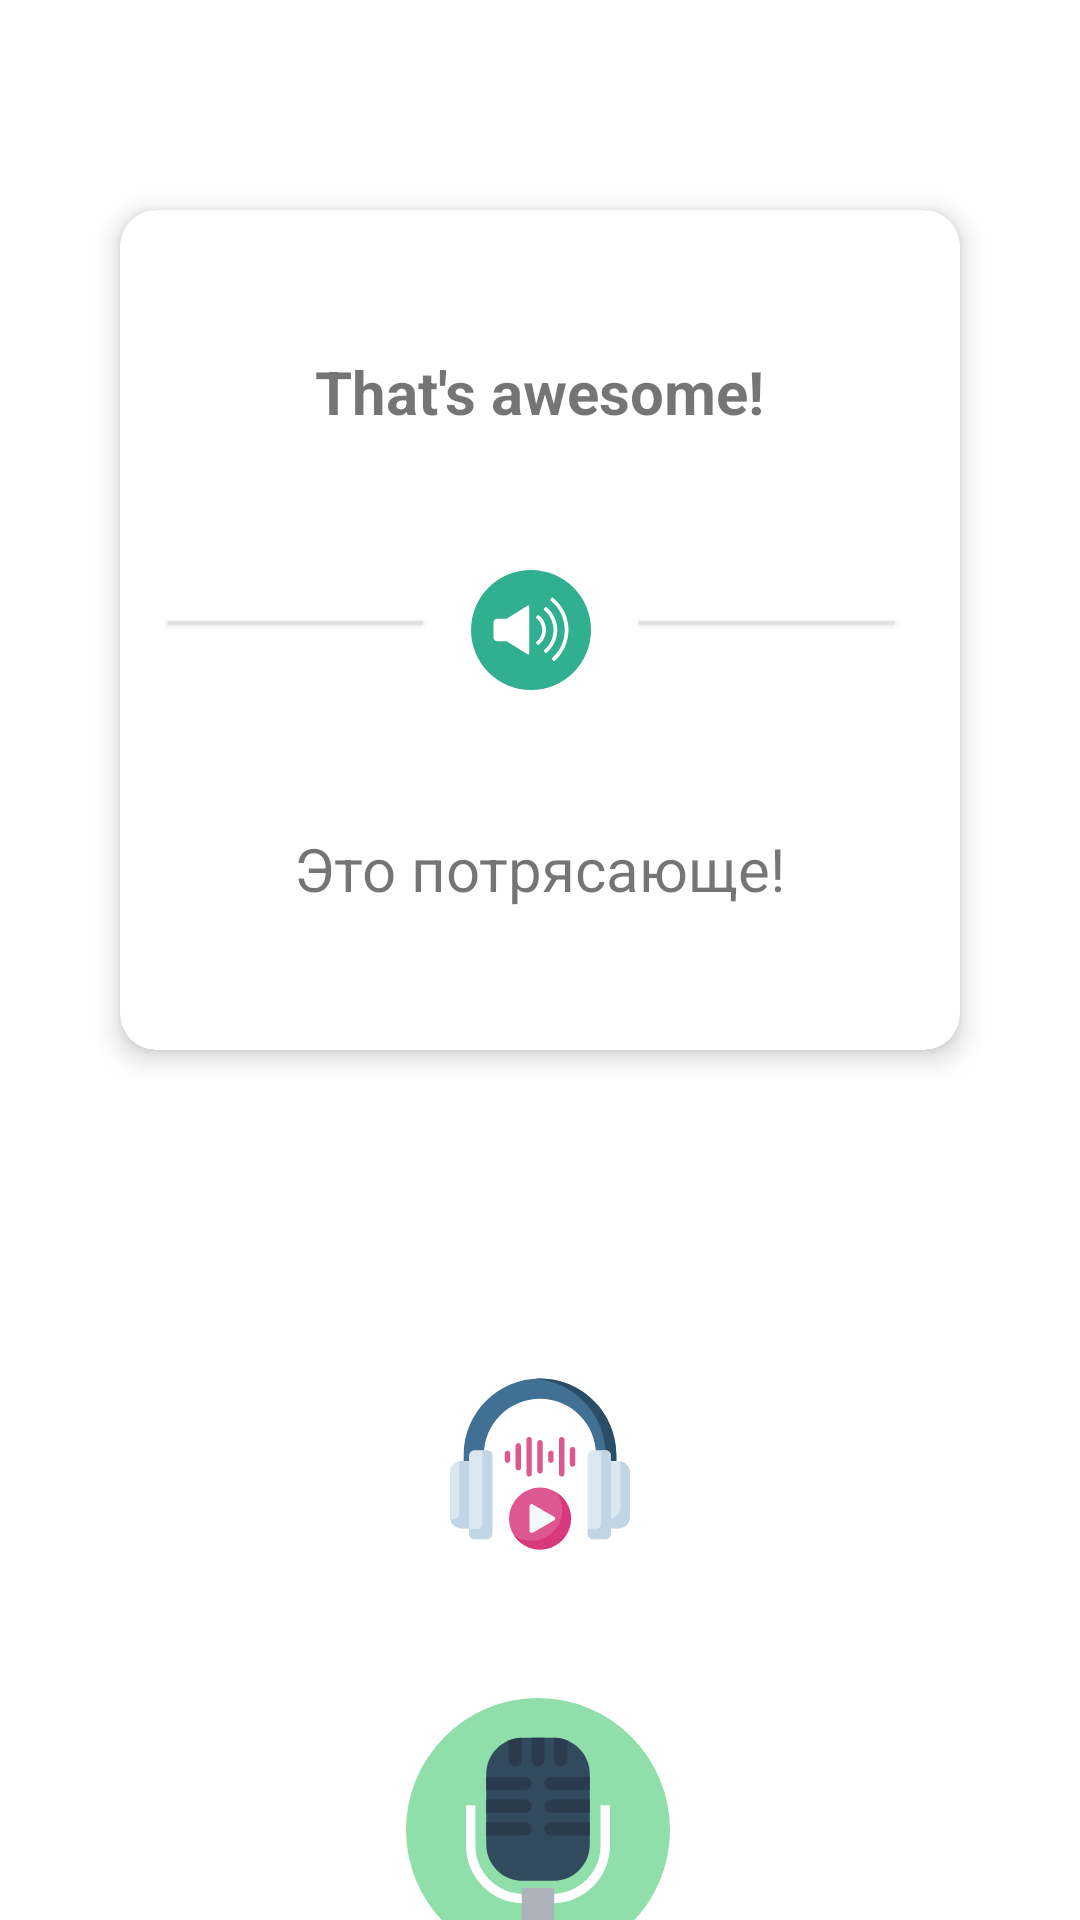

Named icons in this screenshot (1080*1920) and their centers, [x,y]:
listening: [540,1464]
make sound: [531,630]
